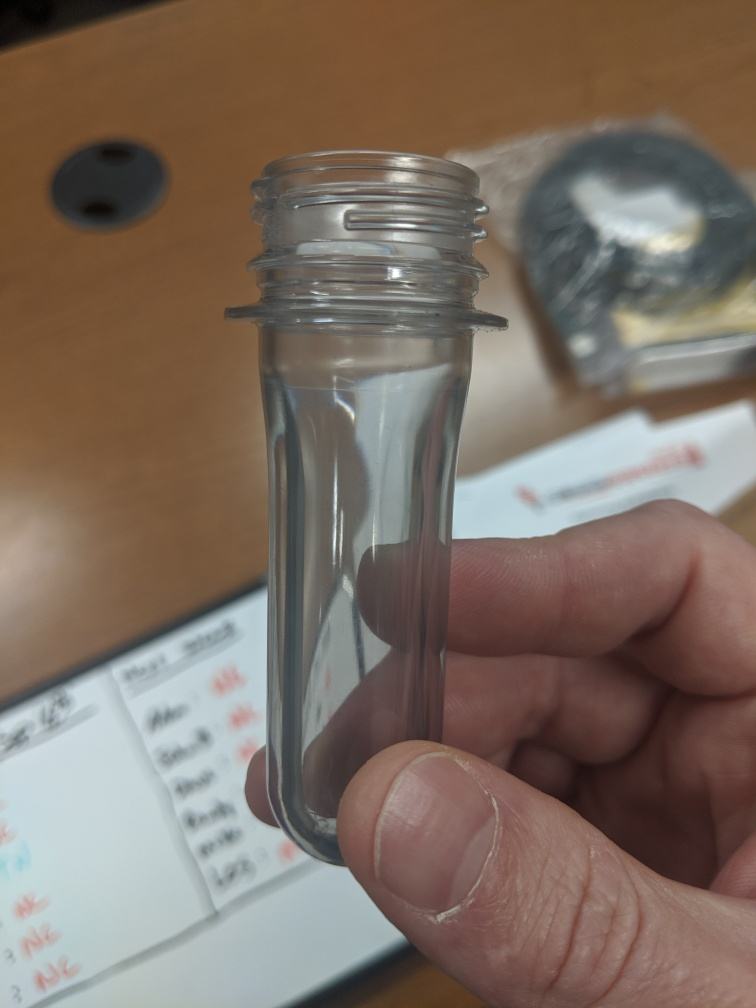preform: (212, 137, 519, 877)
